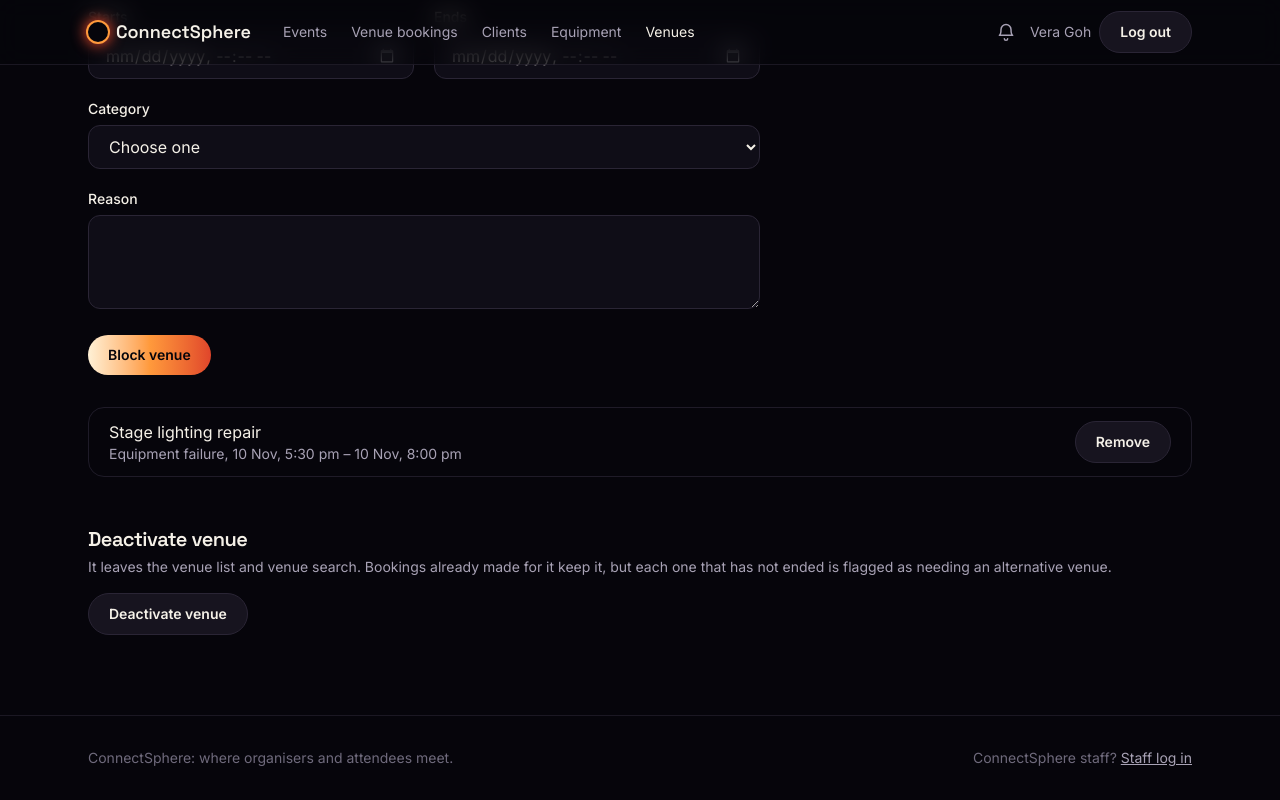
Test: SCRUM-34 removing a block (AC4) › removes the block, which leaves the list and frees the period in the calendar
(page scrolled)
Click the button with aria-label "Remove the block for Stage lighting repair" at (1123, 442), box [1075, 421, 1171, 463]
(page scrolled)
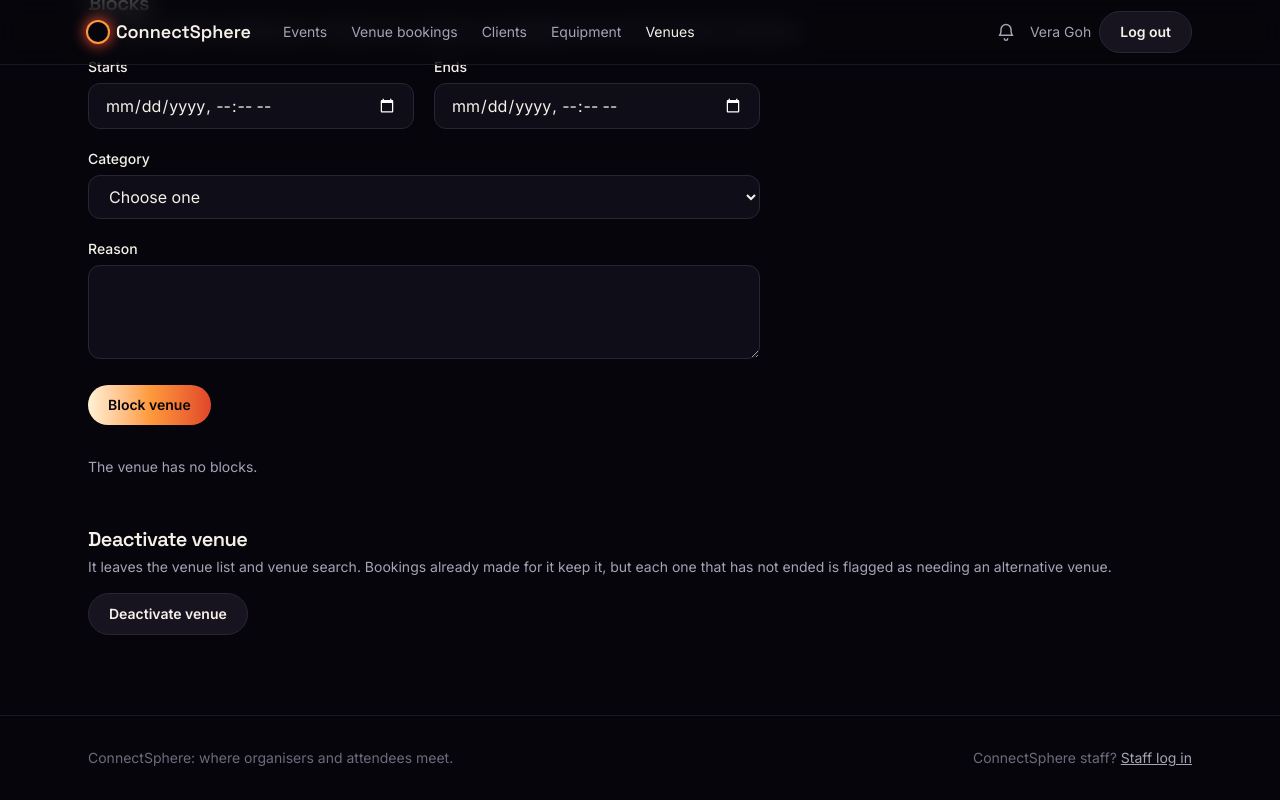
Now the text "The venue has no blocks." is shown, box [88, 458, 257, 475]
